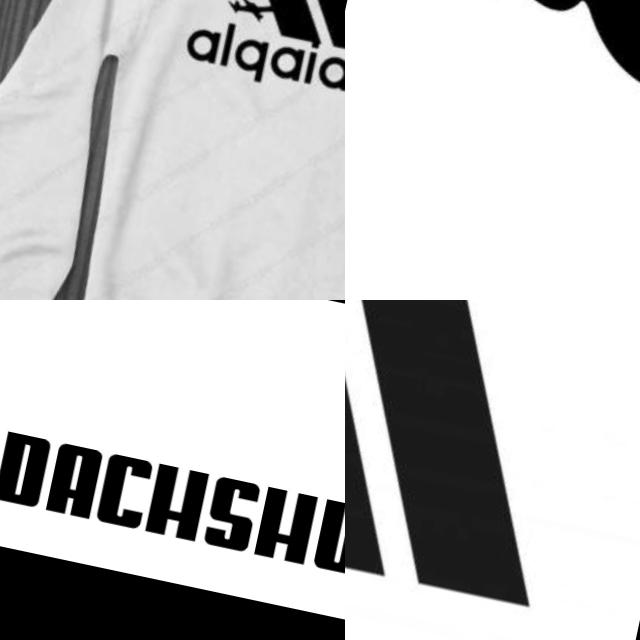ADIDAS_fake: (174, 0, 345, 110)
ADIDAS_original: (345, 300, 622, 624)
PUMA_fake: (0, 300, 345, 638)
PUMA_original: (396, 0, 640, 300)
